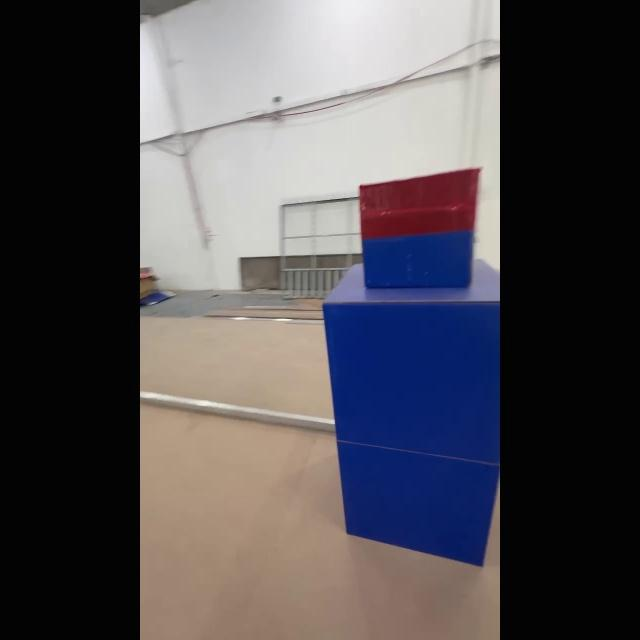sky_block: (353, 168, 478, 292)
